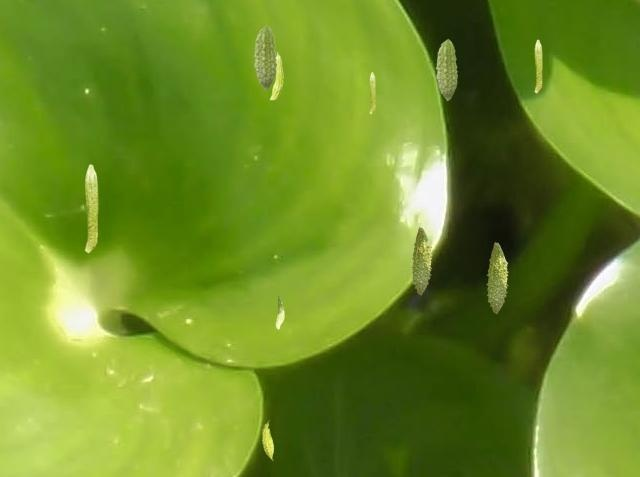ampalaya: (486, 242, 509, 314), (253, 25, 277, 91), (410, 226, 432, 295), (435, 38, 458, 101), (84, 164, 98, 253), (269, 51, 284, 100), (261, 419, 274, 461), (534, 39, 542, 93), (275, 293, 284, 330), (369, 71, 376, 114)
